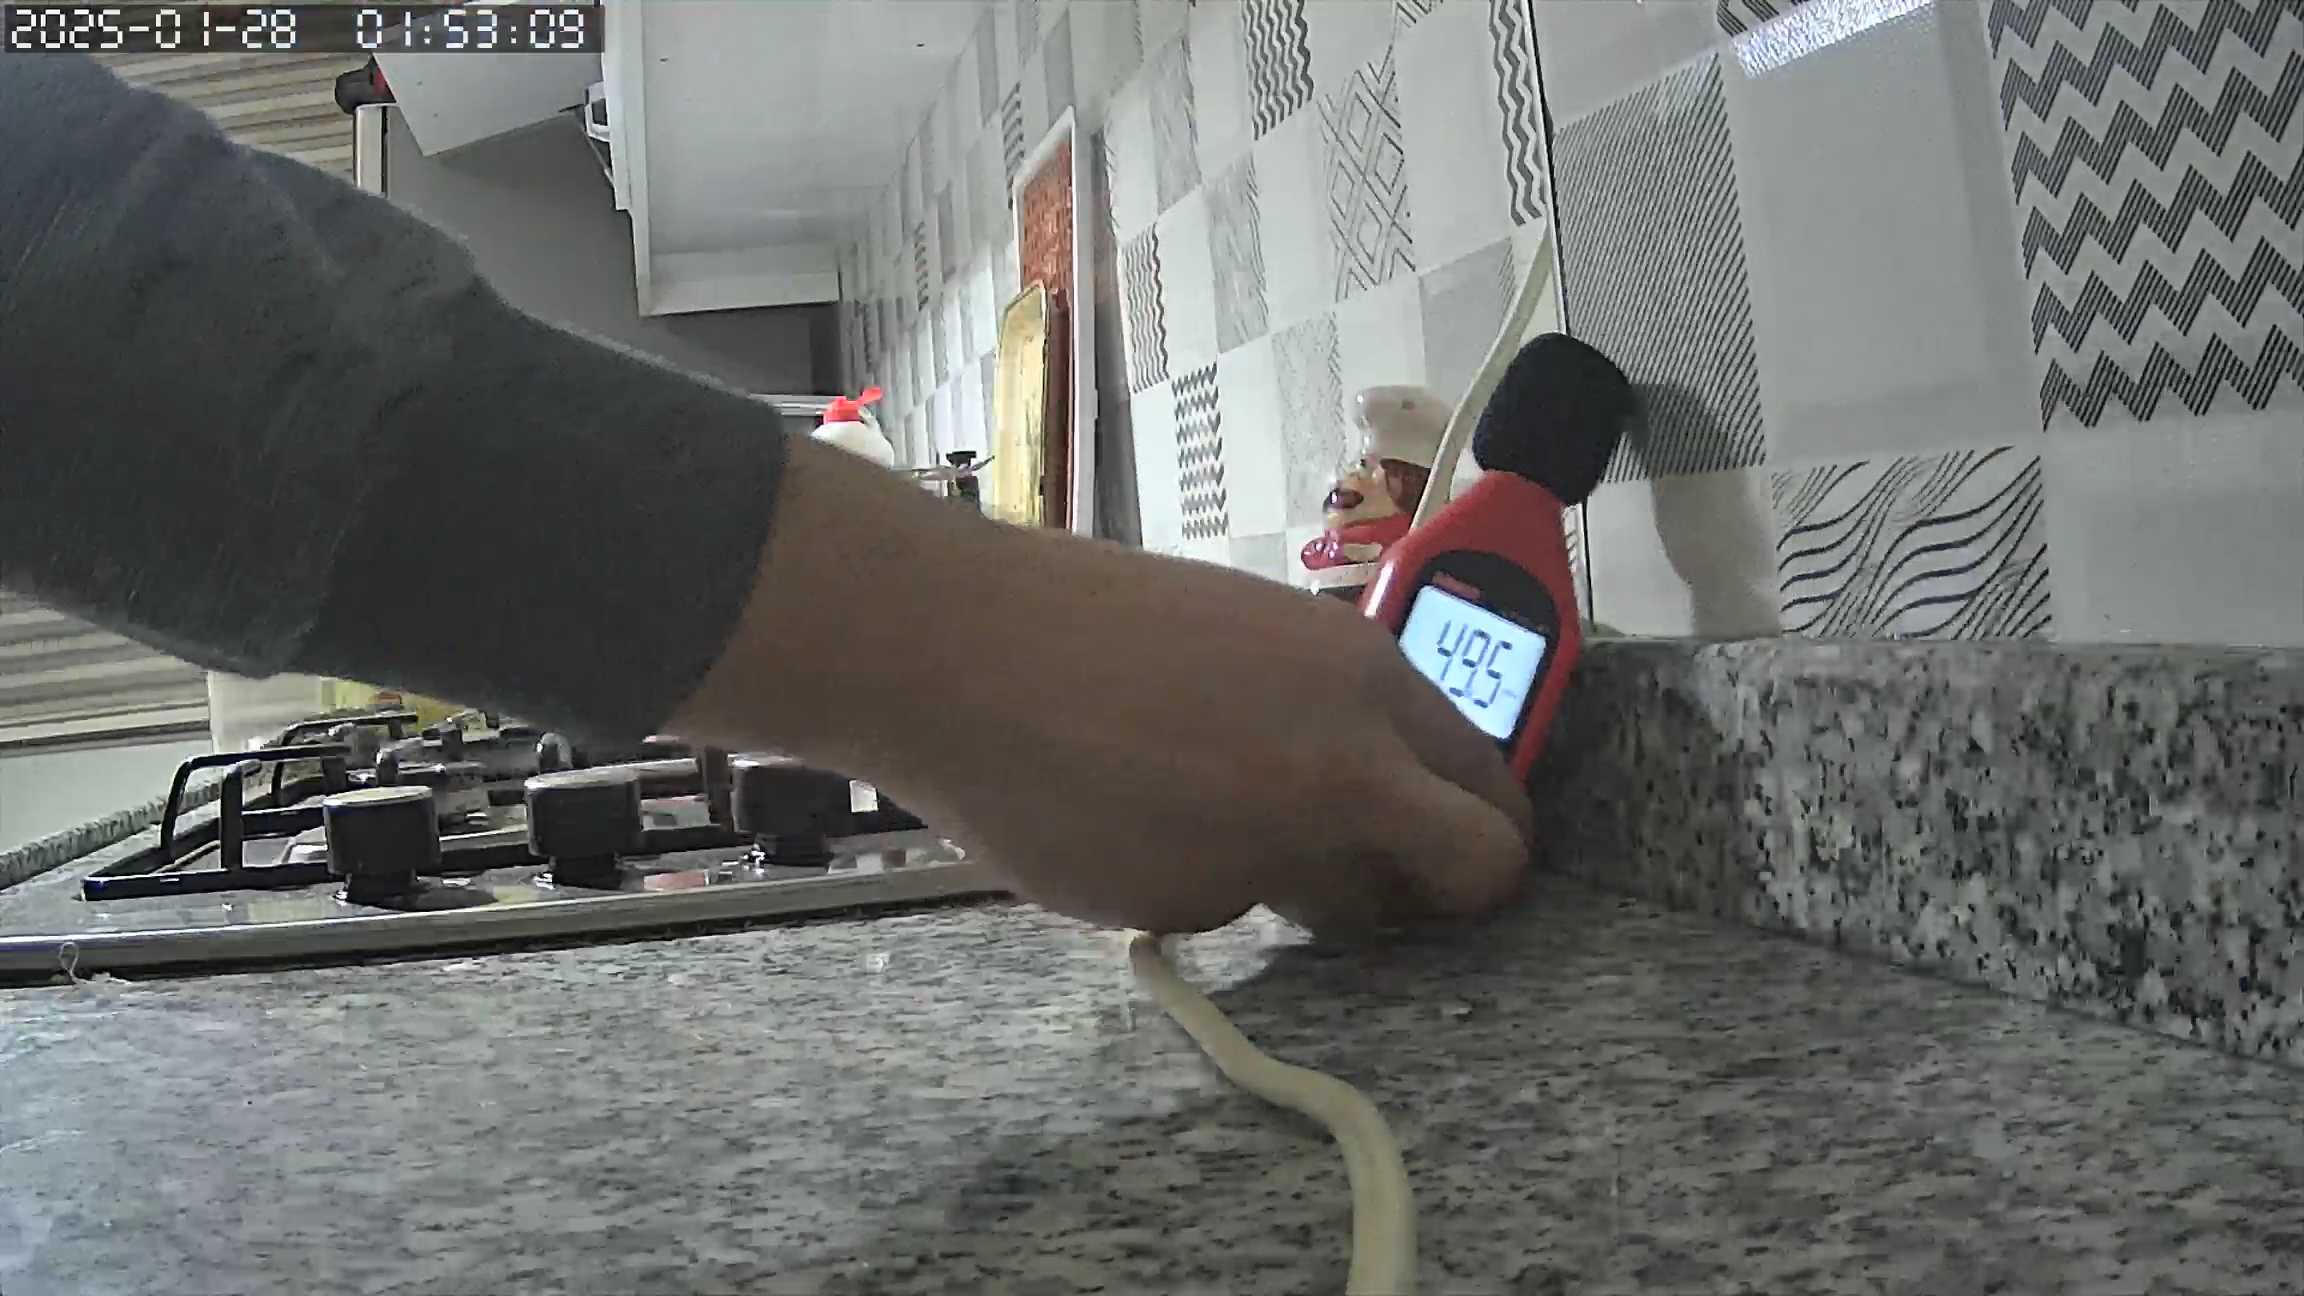screen: (1381, 585, 1548, 745)
